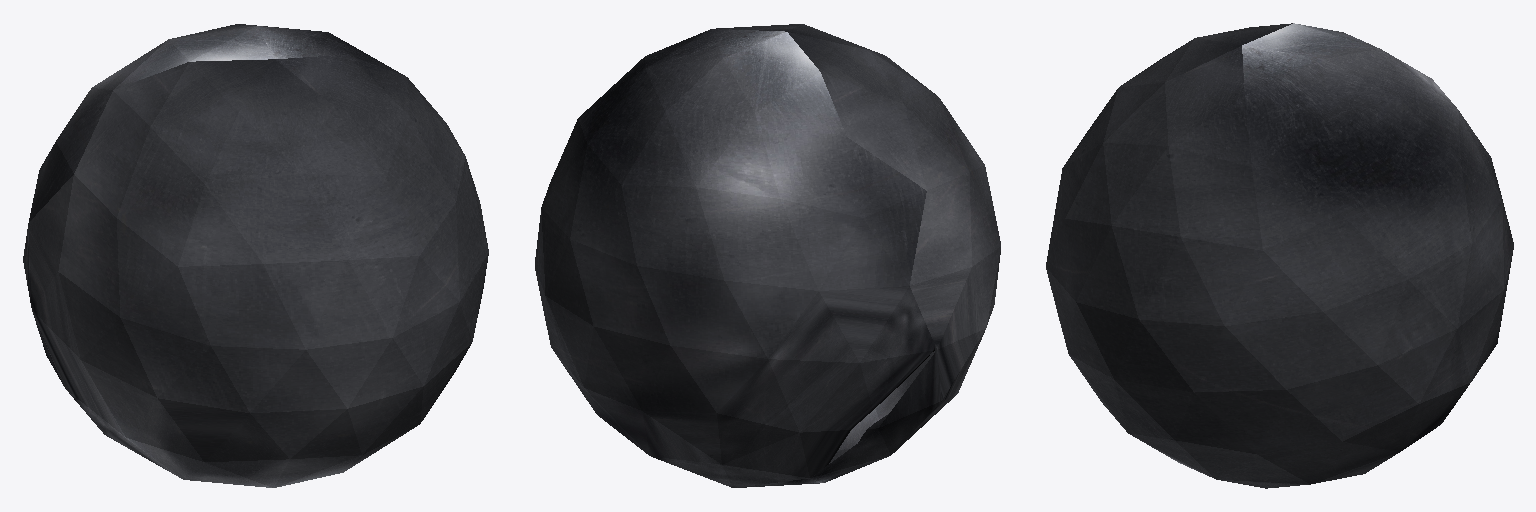
3 views of the same model, side by side, from view 1: azimuth 30°, elevation 25°; view 2: azimuth 150°, elevation 25°; view 3: azimuth 270°, elevation 25° (orthographic).
Visible parts, largest first — view 1: ARCHMODELS_47_050_41; view 2: ARCHMODELS_47_050_41; view 3: ARCHMODELS_47_050_41.
Boxes of the visible parts, x1,y1,x2,y2 form: ARCHMODELS_47_050_41: [23, 24, 488, 487]; ARCHMODELS_47_050_41: [535, 24, 1000, 487]; ARCHMODELS_47_050_41: [1046, 23, 1513, 488].
Bounding box in the file's own units: 0.421 × 0.4216 × 0.4252.
Materials: 1 (1 with a texture image).